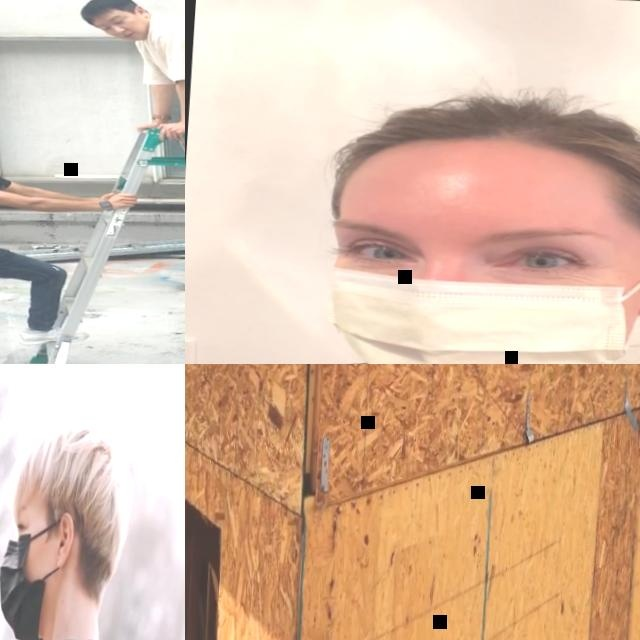Mask: (327, 217, 640, 364), (0, 531, 50, 640)
NO-Hardhat: (336, 76, 640, 202), (16, 418, 135, 517), (79, 0, 130, 28)
NO-Mask: (115, 25, 144, 44)
NO-Safety Vest: (144, 12, 185, 112)
Person: (185, 62, 640, 364), (0, 407, 158, 640), (0, 117, 142, 364), (66, 0, 185, 233)
